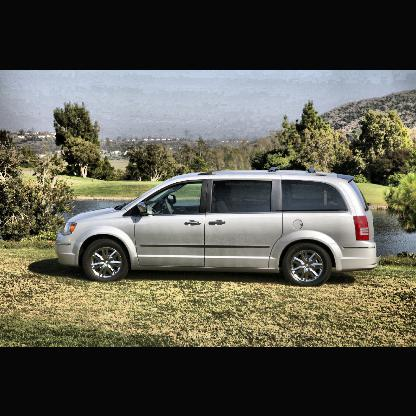Chrysler Town and Country Minivan 2012: (54, 170, 376, 286)
